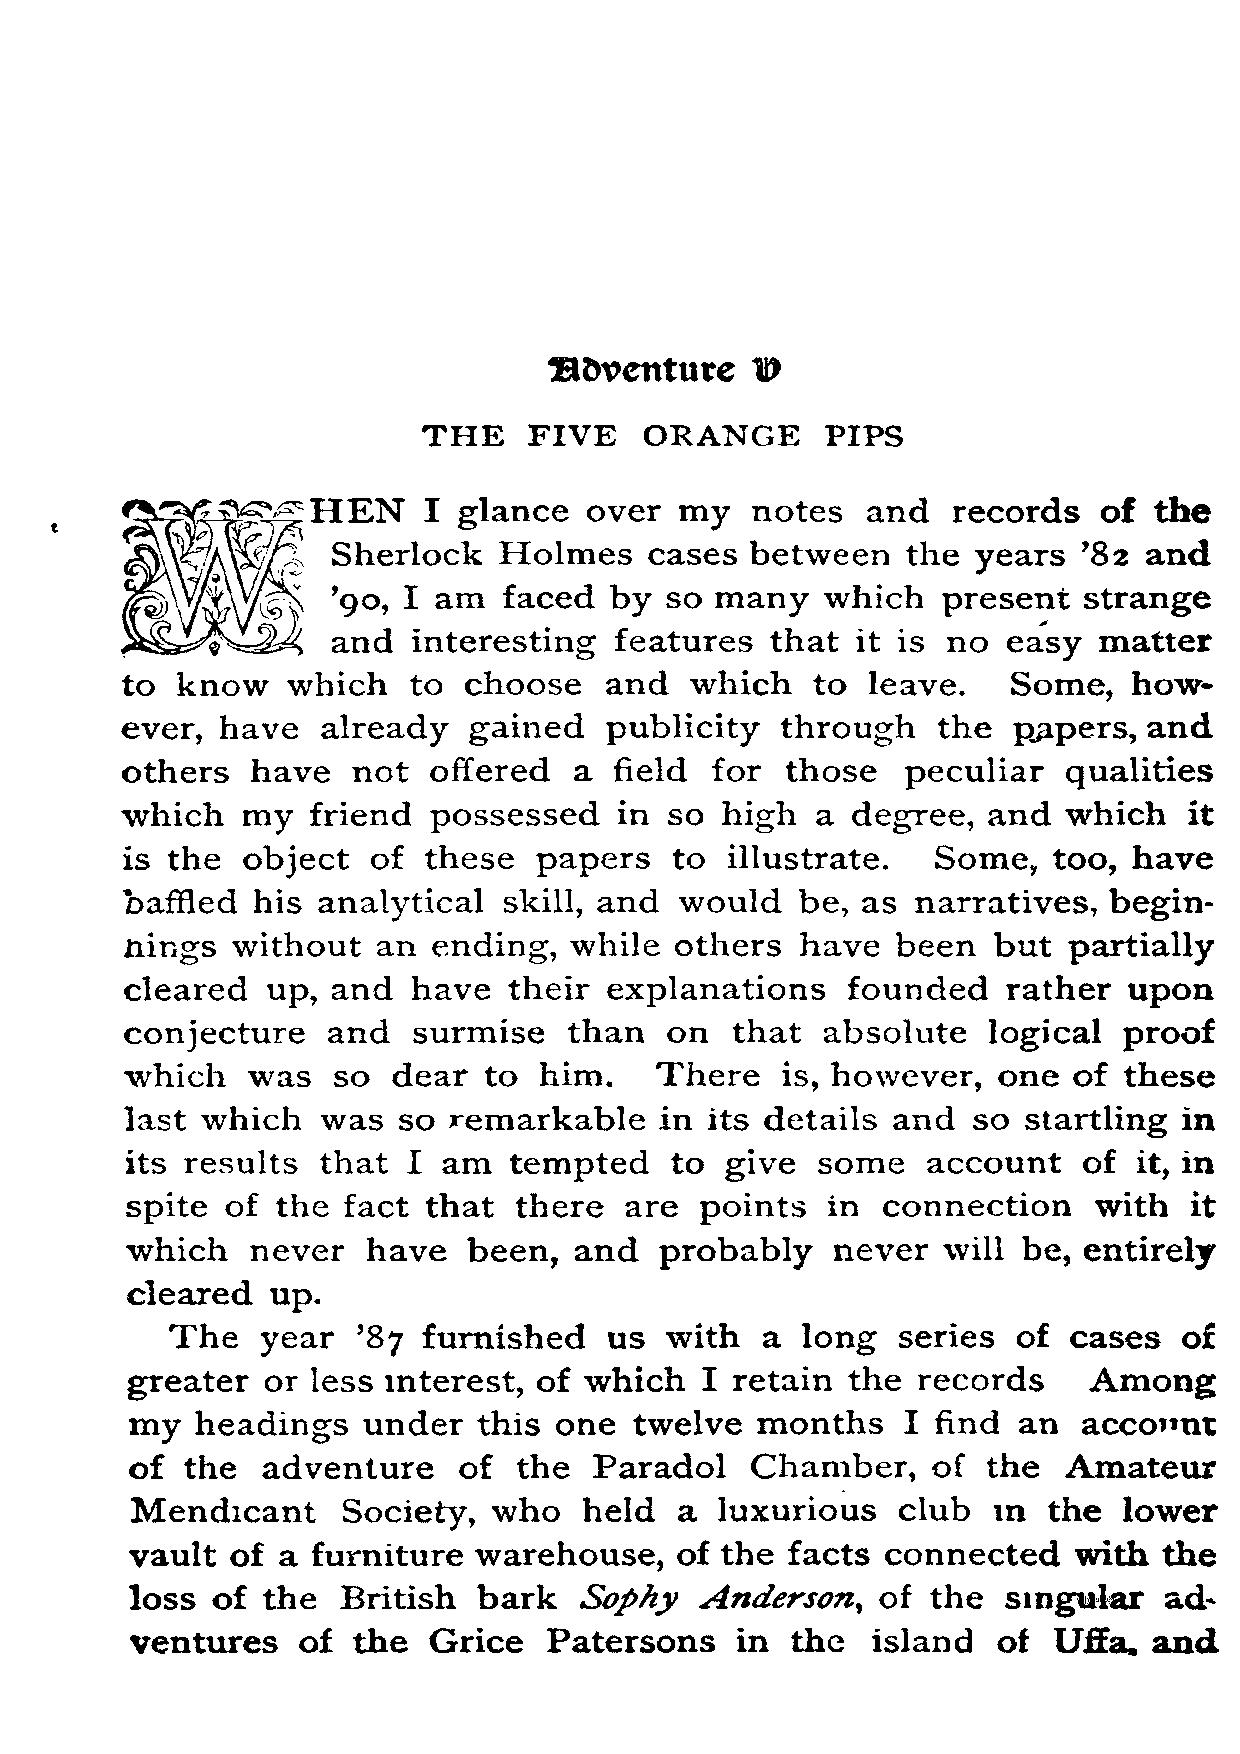chapter: (417, 354, 905, 450)
content: (115, 490, 1220, 1660)
